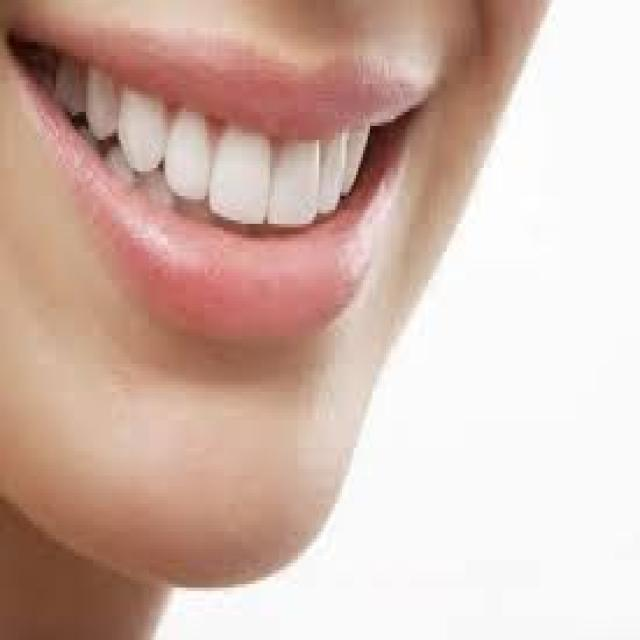tooth: (212, 115, 268, 228), (165, 105, 214, 213), (275, 143, 321, 231), (119, 84, 163, 171), (86, 66, 114, 136), (324, 140, 344, 213), (347, 122, 365, 192)
